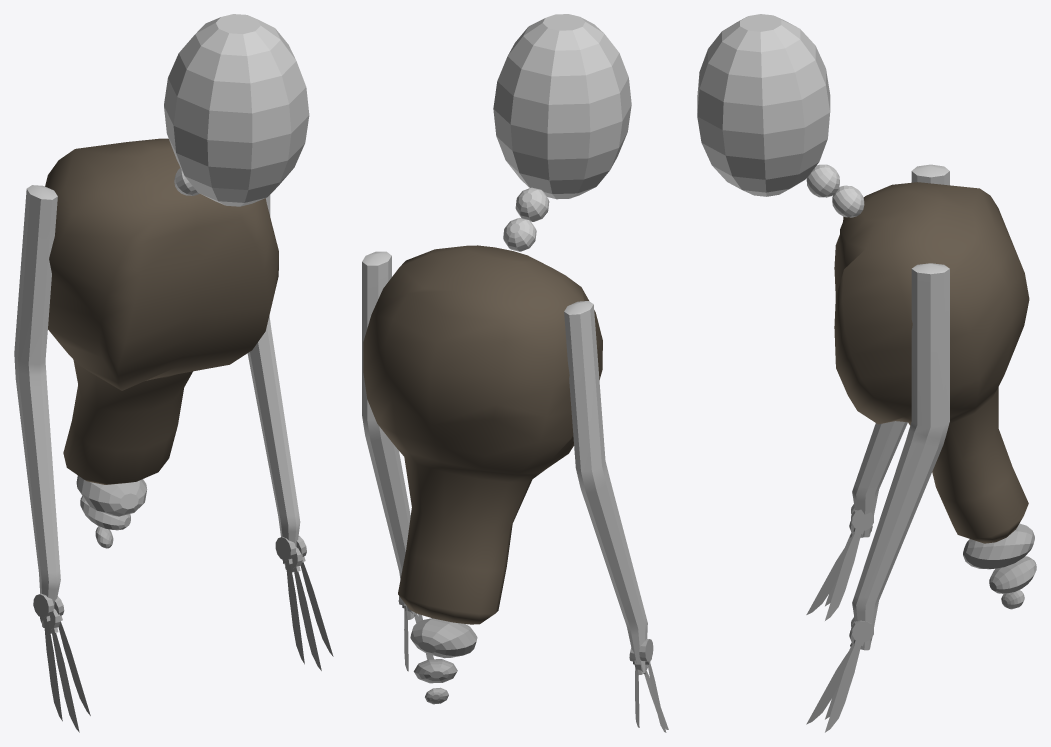
The model's file is Spook.fbx.
The picture shows the model from 3 angles, left to right: view 1: azimuth 30°, elevation 25°; view 2: azimuth 150°, elevation 25°; view 3: azimuth 270°, elevation 25°; orthographic projection. The views are drawn at different scales.
Visible parts, largest first — view 1: pasted__pSphere2, pSphere1, pasted__pCylinder1, pCylinder1, pasted__pasted__pCylinder6 (×3), pasted__pasted__pasted__pCylinder6 (×2), pasted__pasted__pSphere1, pasted__pCylinder6, pasted__pasted__pasted__pSphere1; view 2: pasted__pSphere2, pSphere1, pasted__pCylinder1, pCylinder1, pasted__pasted__pSphere1 (×2), pasted__pSphere1, pasted__pasted__pasted__pSphere1, pasted__pasted__pasted__pCylinder6; view 3: pasted__pSphere2, pSphere1, pCylinder1, pasted__pCylinder1, pasted__pasted__pSphere1 (×2), pasted__pasted__pCylinder6 (×2), pasted__pCylinder6, pasted__pasted__pasted__pSphere1, pasted__pSphere1, pasted__pasted__pasted__pCylinder6.
Boxes of the visible parts, x1,y1,x2,y2 form: pasted__pSphere2: [45, 138, 278, 484]; pSphere1: [164, 14, 309, 206]; pasted__pCylinder1: [14, 185, 60, 627]; pCylinder1: [247, 195, 300, 569]; pasted__pasted__pCylinder6 (×3): [54, 537, 321, 715]; pasted__pasted__pasted__pCylinder6 (×2): [33, 593, 79, 732]; pasted__pasted__pSphere1: [76, 475, 147, 516]; pasted__pCylinder6: [296, 536, 333, 656]; pasted__pasted__pasted__pSphere1: [80, 496, 130, 530]; pasted__pSphere2: [363, 245, 602, 624]; pSphere1: [493, 14, 631, 199]; pasted__pCylinder1: [564, 301, 647, 674]; pCylinder1: [362, 251, 414, 619]; pasted__pasted__pSphere1 (×2): [410, 187, 549, 658]; pasted__pSphere1: [503, 218, 536, 251]; pasted__pasted__pasted__pSphere1: [413, 659, 457, 683]; pasted__pasted__pasted__pCylinder6: [639, 639, 666, 732]; pasted__pSphere2: [834, 182, 1029, 543]; pSphere1: [697, 14, 830, 196]; pCylinder1: [852, 263, 949, 650]; pasted__pCylinder1: [852, 164, 949, 537]; pasted__pasted__pSphere1 (×2): [806, 164, 1034, 569]; pasted__pasted__pCylinder6 (×2): [806, 509, 873, 724]; pasted__pCylinder6: [825, 620, 873, 732]; pasted__pasted__pasted__pSphere1: [989, 556, 1036, 593]; pasted__pSphere1: [832, 185, 864, 217]; pasted__pasted__pasted__pCylinder6: [806, 521, 872, 614].
Bounding box in the file's own units: 3.13 × 7.55 × 3.55.
